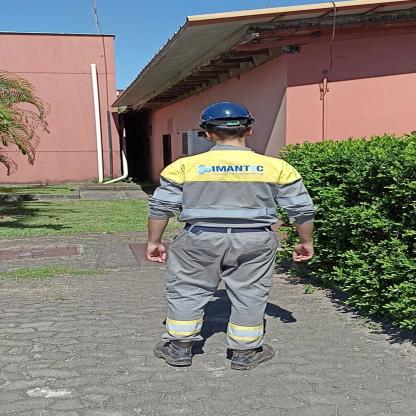Capacete: (200, 99, 257, 126)
